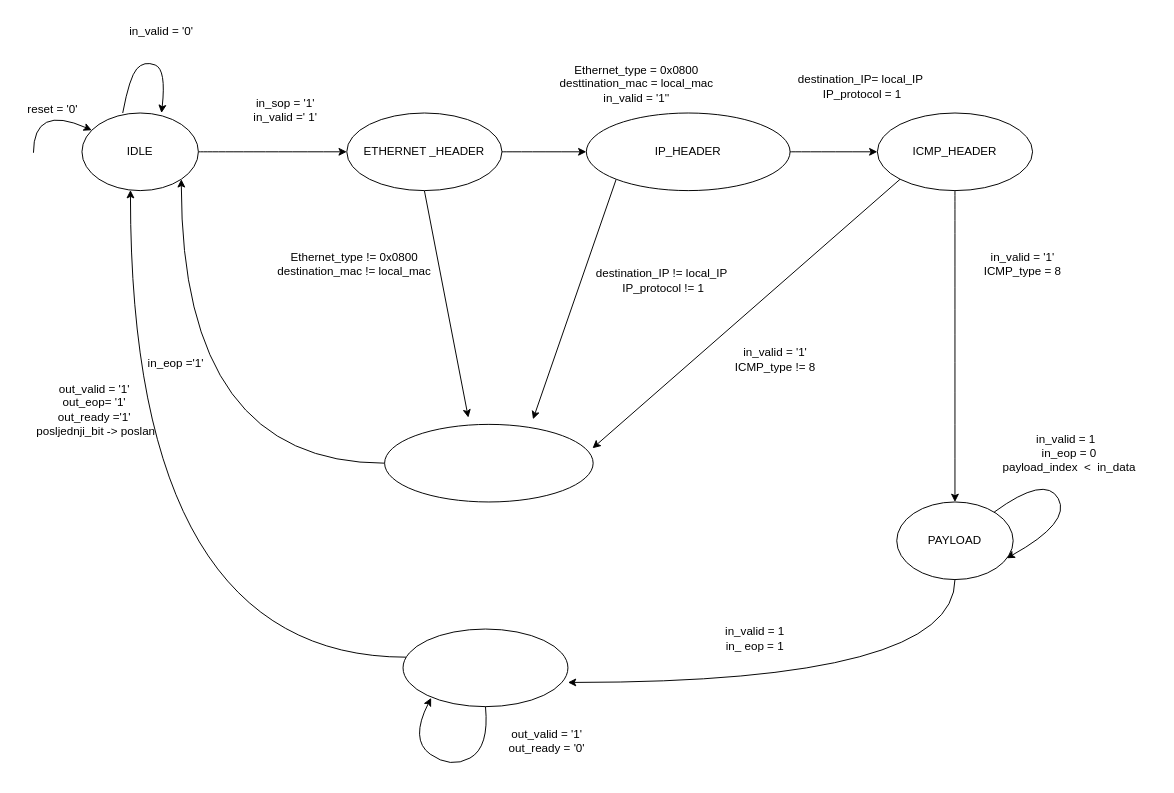
The diagram is 1174 pixels wide and 793 high, and some of its shapes have lost their labels. Each missing label, with the centre of its shape:
IGNORE: point 488,462
SEND: point 485,667
